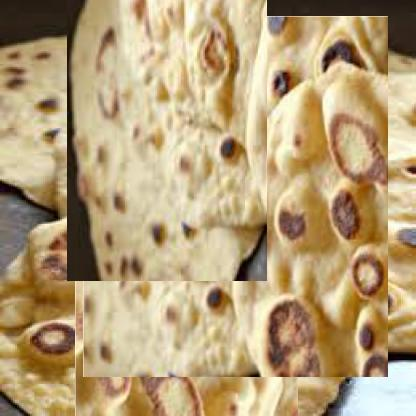naan: (69, 30, 402, 363), (37, 155, 335, 416), (33, 0, 301, 247)
